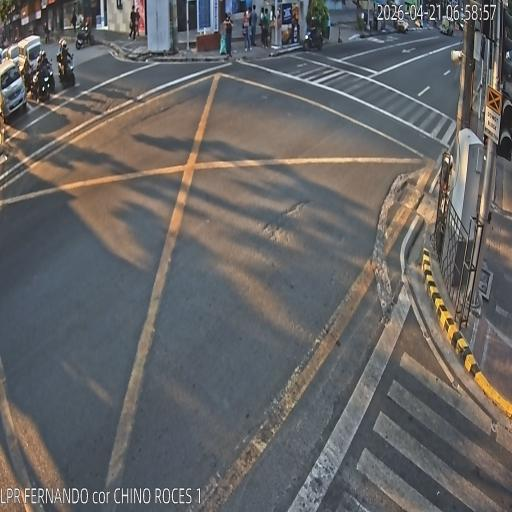Car: (0, 58, 28, 123), (18, 37, 45, 72), (0, 42, 20, 73), (440, 16, 454, 36), (394, 18, 409, 33), (459, 18, 464, 32)
Motor: (30, 58, 54, 102), (56, 52, 78, 90), (303, 21, 323, 52), (75, 24, 95, 49)
